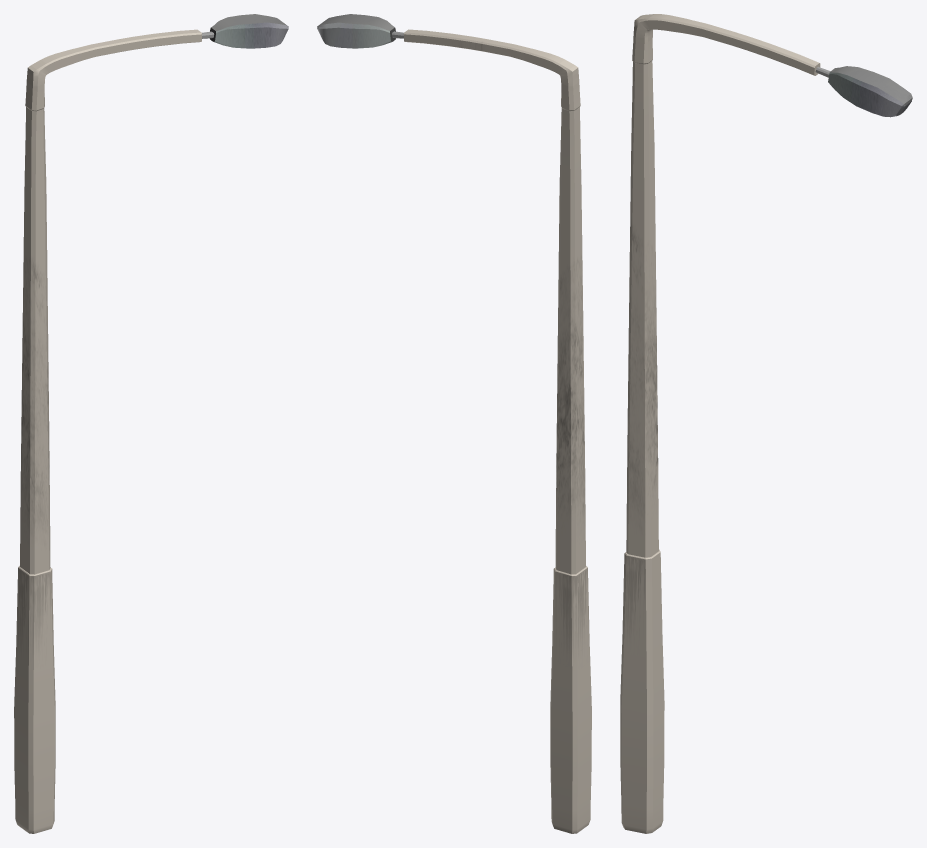
The model's file is street_lamp.fbx.
The picture shows the model from 3 angles, left to right: view 1: azimuth 30°, elevation 25°; view 2: azimuth 150°, elevation 25°; view 3: azimuth 330°, elevation 25°; orthographic projection. The views are drawn at different scales.
Parts seen in each view (by area): view 1: street_lamp; view 2: street_lamp; view 3: street_lamp.
Boxes of the visible parts, box(x1,y1,x2,y2) form: street_lamp: box(14, 14, 288, 833); street_lamp: box(317, 14, 591, 833); street_lamp: box(620, 14, 912, 833).
Bounding box in the file's own units: 6.53 × 18.13 × 0.7642.
1 material, 1 textured.
